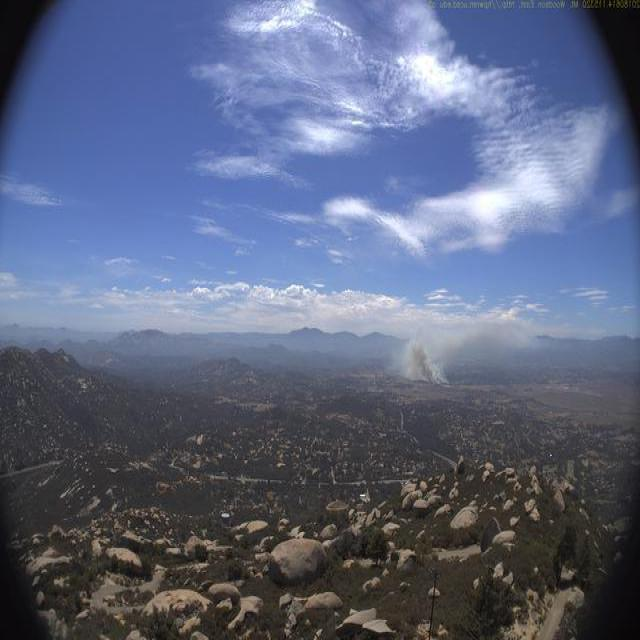Smoke: (393, 308, 531, 391)
